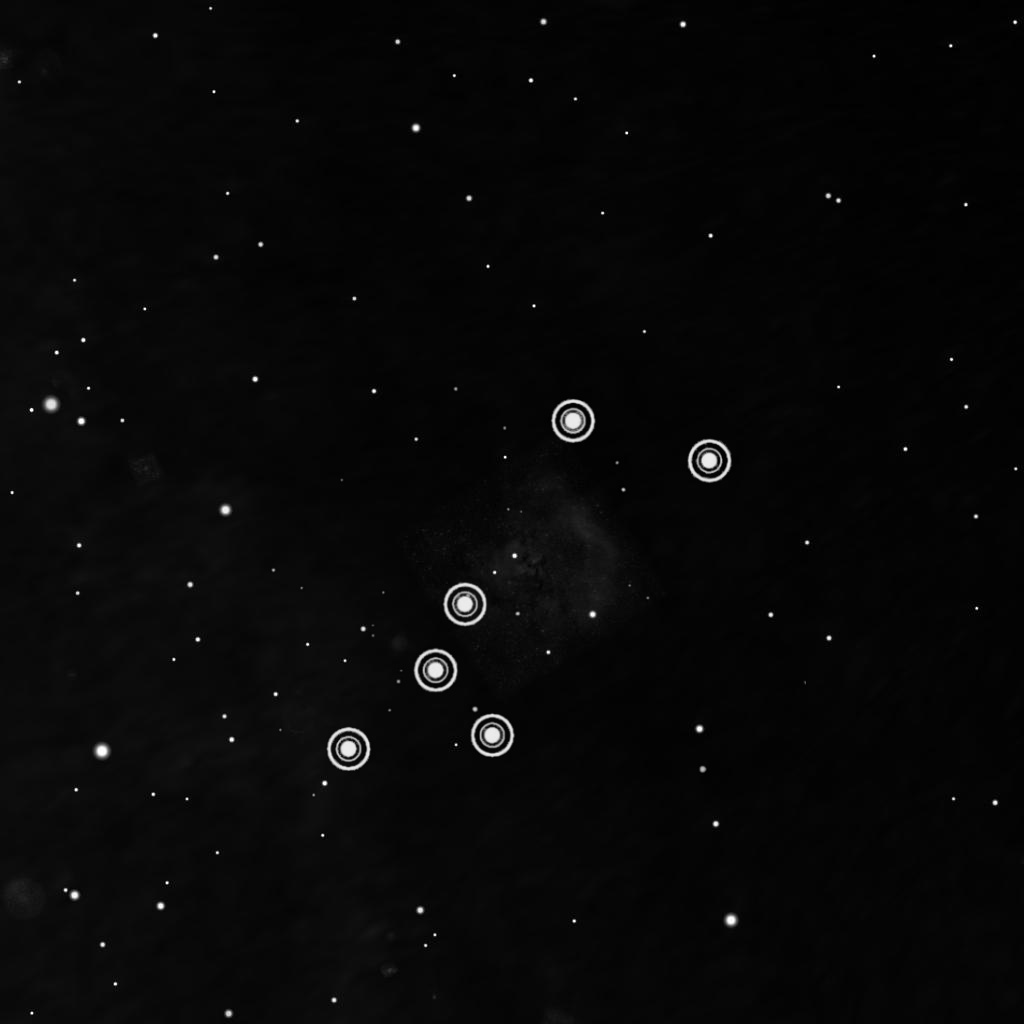canis_major: (317, 389, 747, 780)
